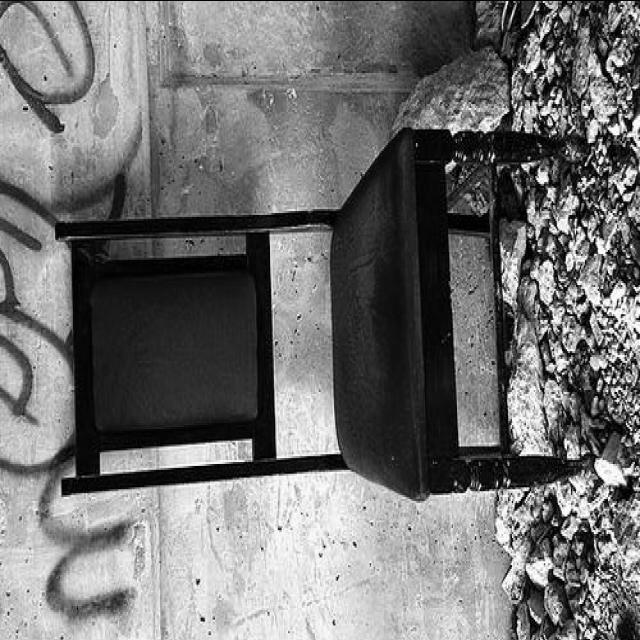chair: (59, 130, 589, 500)
